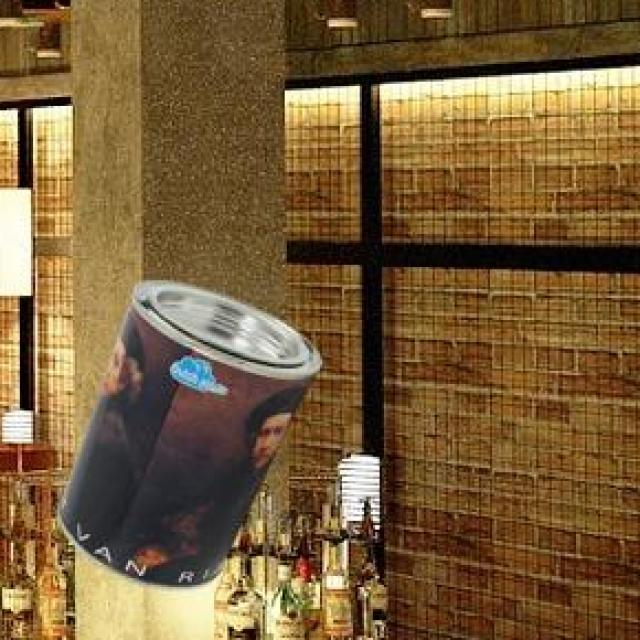logam: (63, 284, 326, 593)
